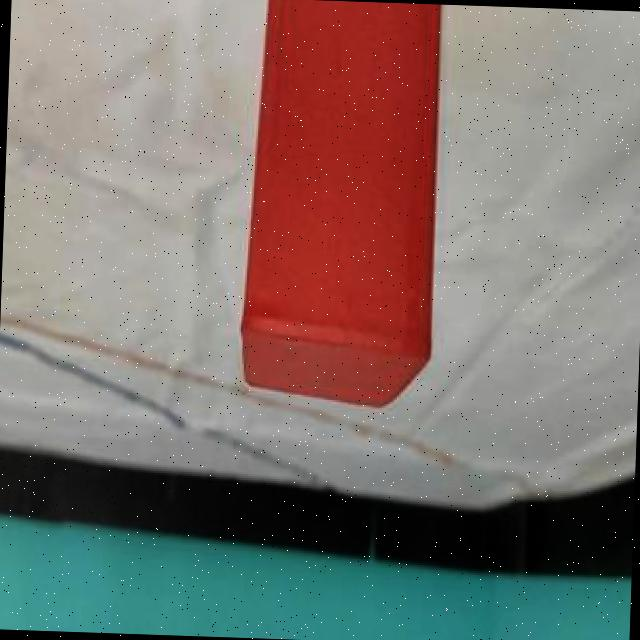redbox: (242, 0, 446, 409)
